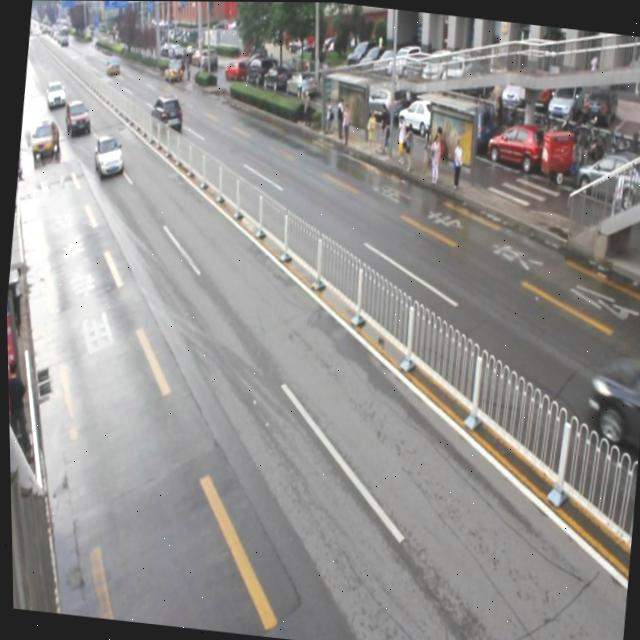car: (582, 345, 640, 444), (91, 132, 127, 180), (148, 93, 185, 133)
